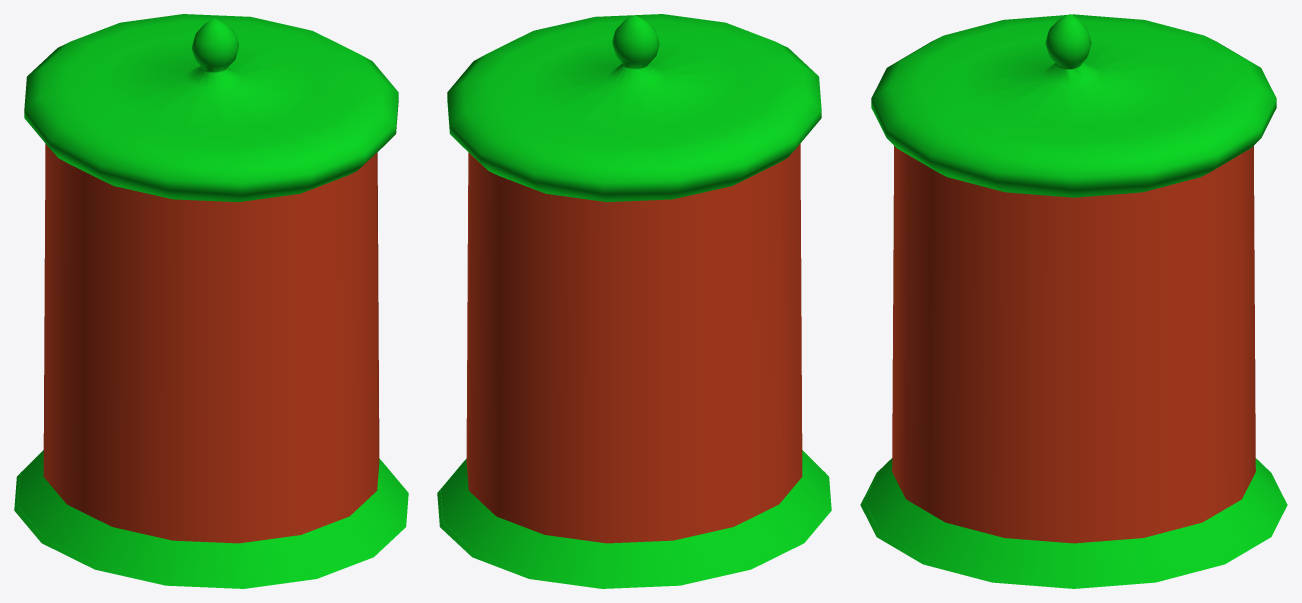
File: Jar with Hand 03.fbx
The picture shows the model from 3 angles, left to right: view 1: azimuth 30°, elevation 25°; view 2: azimuth 150°, elevation 25°; view 3: azimuth 270°, elevation 25°; orthographic projection.
Visible parts, largest first — view 1: Plane; view 2: Plane; view 3: Plane.
Boxes of the visible parts, box(x1,y1,x2,y2) form: Plane: box(14, 14, 408, 588); Plane: box(437, 14, 831, 588); Plane: box(860, 14, 1287, 588).
Bounding box in the file's own units: 52.01 × 70.96 × 55.91.
